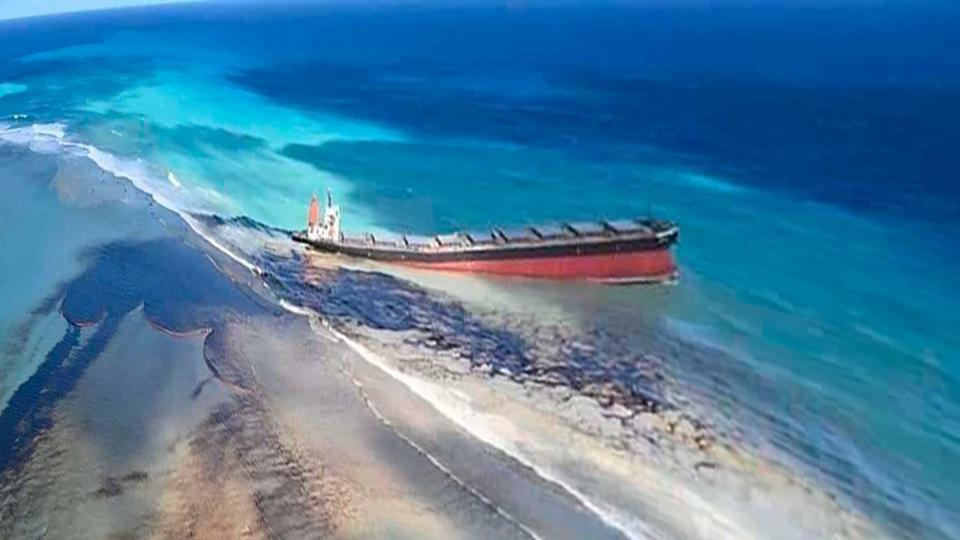Oil Pollution: (9, 137, 282, 493)
